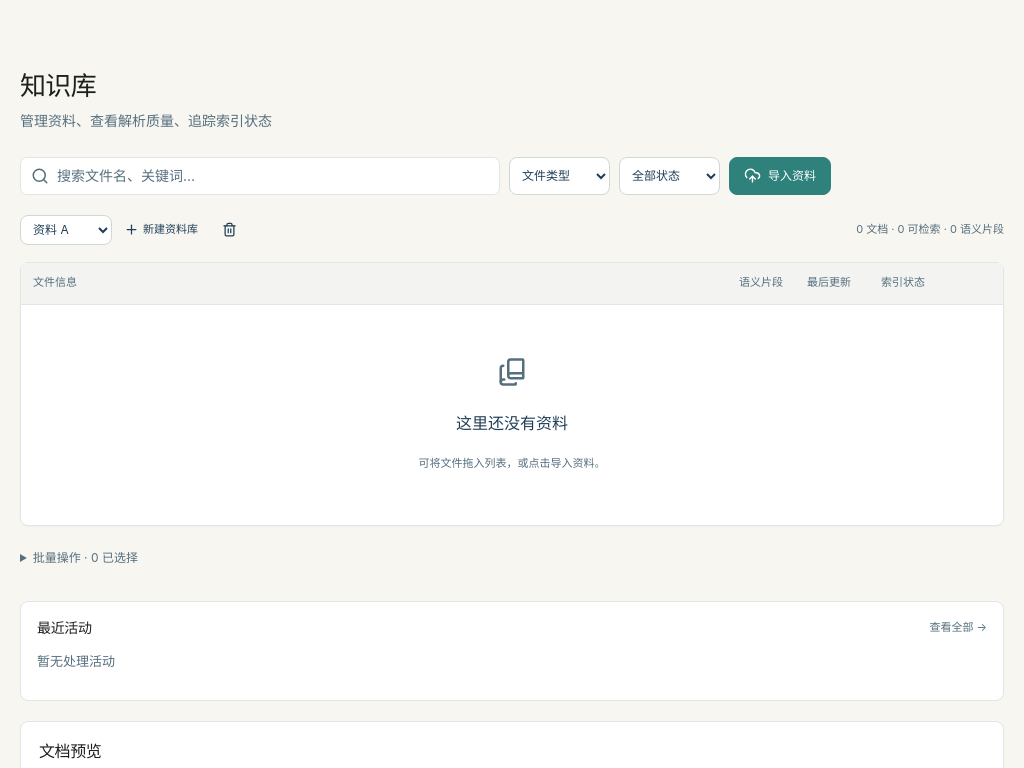
Test case: failed library deletion leaves the library available
Click the button named "删除资料库" at x=229, y=230, box 210,211 -> 248,249
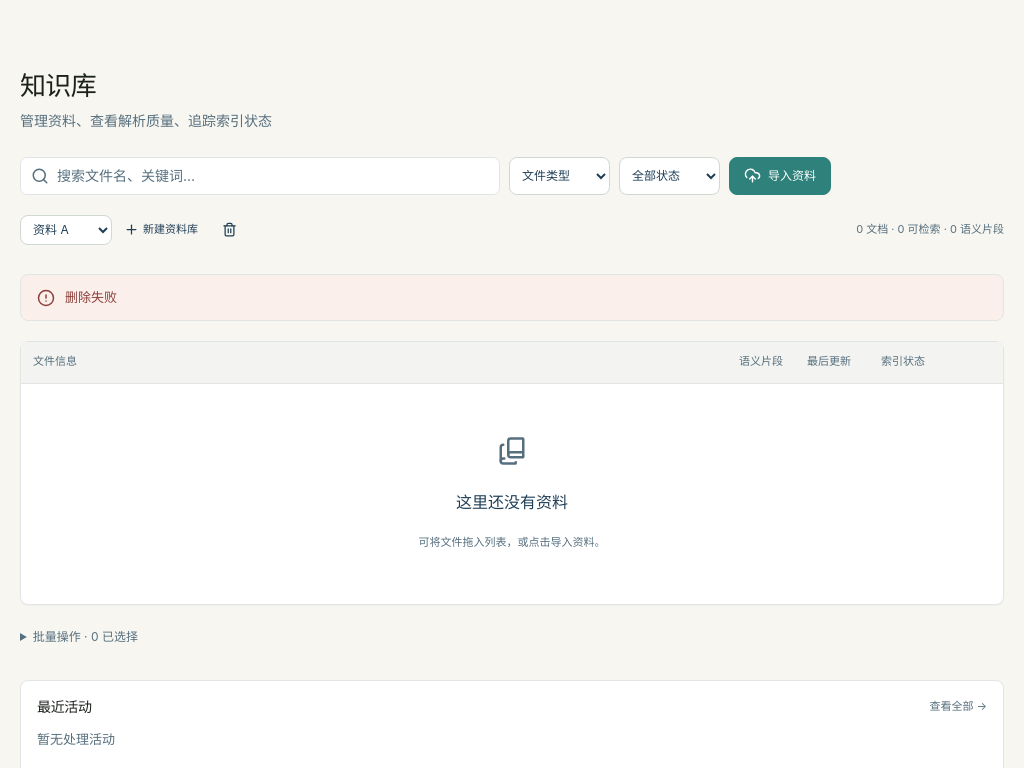
Result: the text "删除失败" is shown at 65,289 -> 117,305
